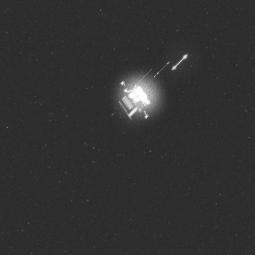earth_observation_sat_1: (99, 48, 190, 132)
